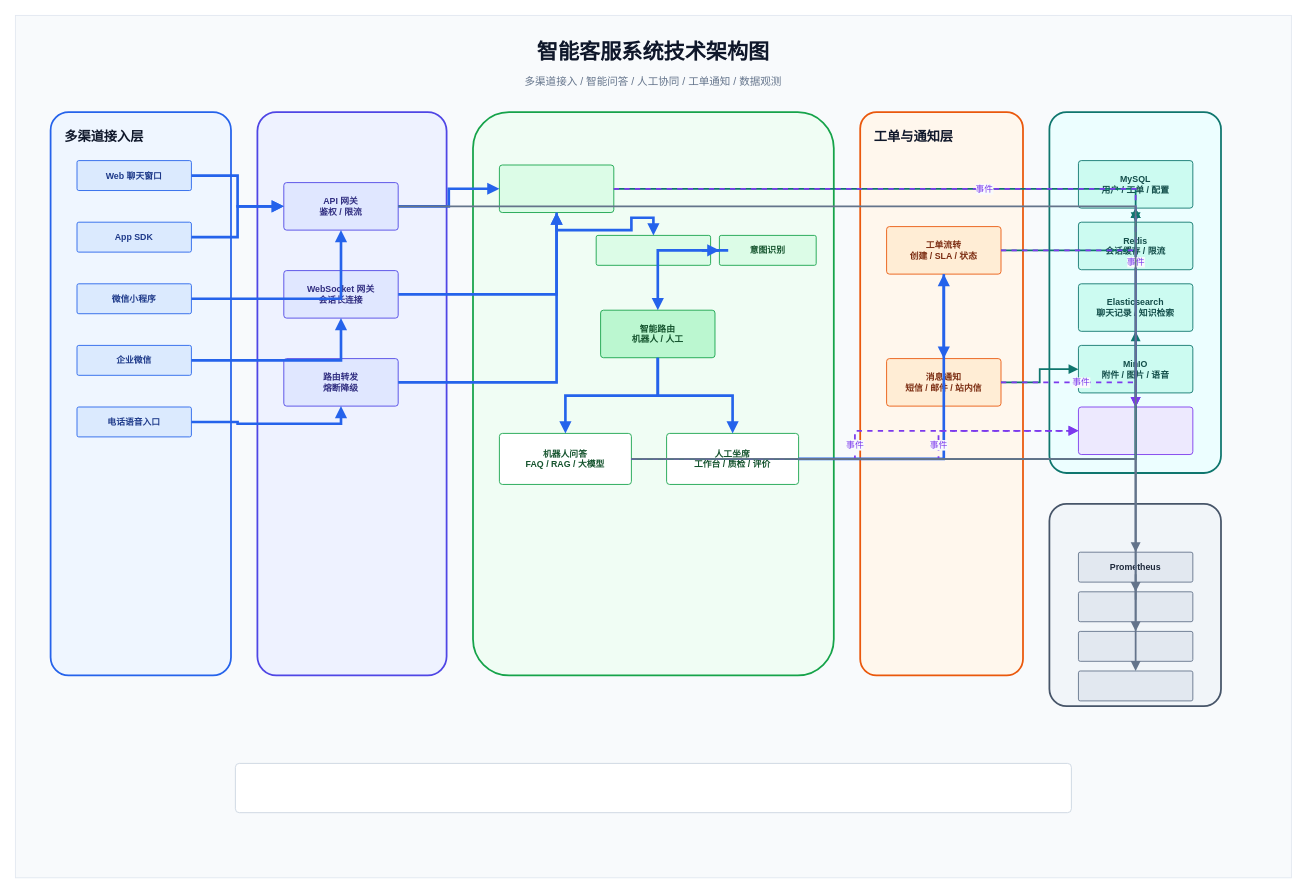
The diagram is 1307 pixels wide and 893 high, and some of its shapes have lost their labels. The box of each missing label's shape, as (x1, y1, x2, y2) in pixels:
Grafana: (1078, 591, 1193, 622)
Kafka 消息事件流: (1078, 406, 1193, 455)
会话、问答与坐席协同: (472, 111, 834, 676)
会话管理 上下文 / 状态: (499, 164, 614, 213)
图例：蓝色粗实线=主流程 紫色虚线=异步事件 青色实线=存储访问 灰色实线=观测采集: (235, 763, 1071, 813)
接入与网关层: (256, 111, 447, 676)
数据与存储层: (1048, 111, 1221, 473)
日志采集: (1078, 631, 1193, 661)
用户画像识别: (595, 235, 711, 265)
运维与观测层: (1048, 502, 1221, 707)
链路追踪 / 告警: (1078, 670, 1193, 701)
